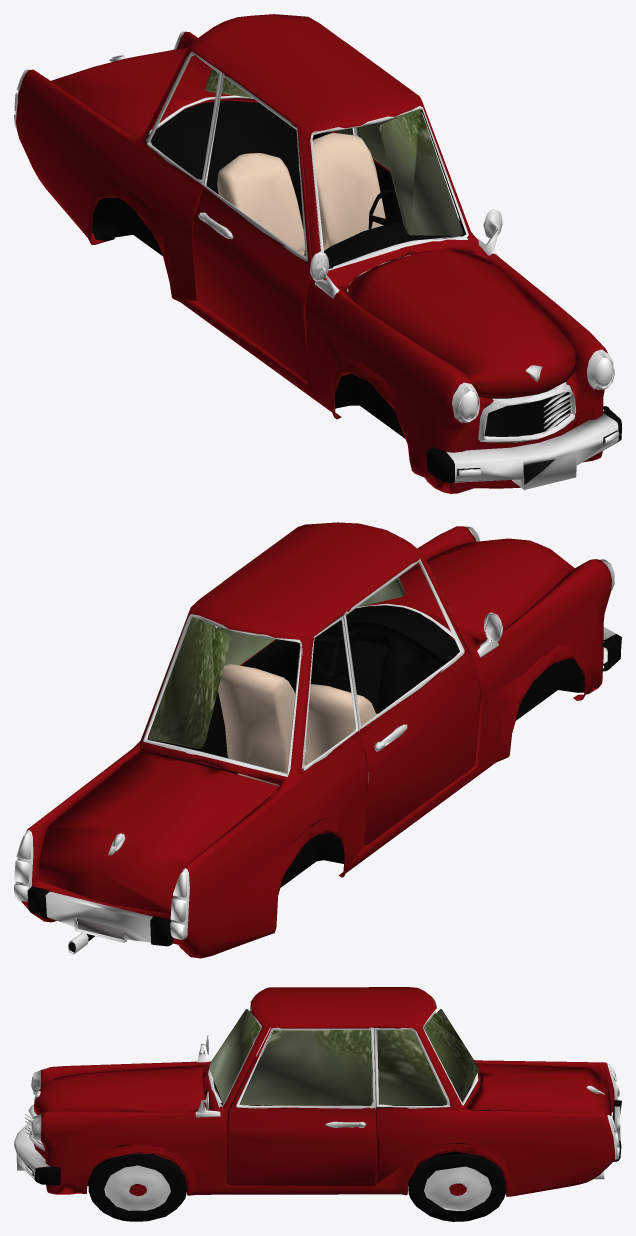
File: toy-car.glb
3 views of the same model, one above another, from view 1: azimuth 30°, elevation 25°; view 2: azimuth 150°, elevation 25°; view 3: azimuth 270°, elevation 25° (orthographic). The views are drawn at different scales.
Visible parts, largest first — view 1: cotxe base; view 2: cotxe base; view 3: cotxe base.
Boxes of the visible parts, x1,y1,x2,y2 form: cotxe base: (14,14,621,493); cotxe base: (14,522,621,958); cotxe base: (14,987,621,1221).
Bounding box in the file's own units: 0.1722 × 0.2472 × 0.7065.
Materials: 7 (2 with a texture image).
